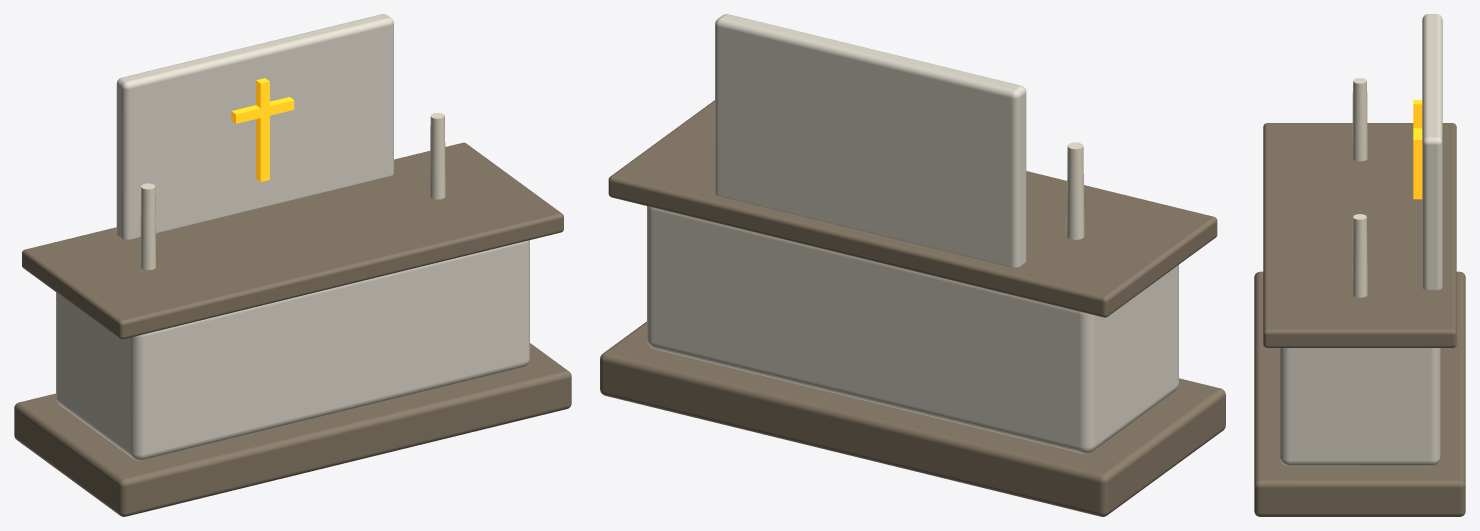
Rendered from memorial-table.glb.
3 views of the same model, side by side, from view 1: azimuth 30°, elevation 25°; view 2: azimuth 150°, elevation 25°; view 3: azimuth 270°, elevation 25° (orthographic). The views are drawn at different scales.
Visible parts, largest first — view 1: Table, TopSlab, BackPanel, Plinth, Cross, object 7, object 6; view 2: Table, BackPanel, Plinth, TopSlab, object 6; view 3: TopSlab, Table, Plinth, BackPanel, object 7, object 6, Cross.
Boxes of the visible parts, x1=… form: Table: x1=56, y1=240, x2=529, y2=460; TopSlab: x1=22, y1=142, x2=563, y2=339; BackPanel: x1=116, y1=14, x2=393, y2=239; Plinth: x1=14, y1=343, x2=571, y2=516; Cross: x1=231, y1=78, x2=294, y2=181; object 7: x1=429, y1=112, x2=445, y2=199; object 6: x1=140, y1=183, x2=156, y2=270; Table: x1=647, y1=206, x2=1178, y2=453; BackPanel: x1=715, y1=14, x2=1026, y2=267; Plinth: x1=600, y1=321, x2=1225, y2=516; TopSlab: x1=608, y1=100, x2=1217, y2=317; object 6: x1=1066, y1=142, x2=1084, y2=239; TopSlab: x1=1263, y1=123, x2=1456, y2=347; Table: x1=1279, y1=348, x2=1440, y2=466; Plinth: x1=1254, y1=271, x2=1465, y2=516; BackPanel: x1=1422, y1=14, x2=1442, y2=290; object 7: x1=1352, y1=214, x2=1367, y2=297; object 6: x1=1352, y1=78, x2=1367, y2=161; Cross: x1=1413, y1=100, x2=1422, y2=199.
Bounding box in the file's own units: 2.5 × 1.85 × 1.05.
